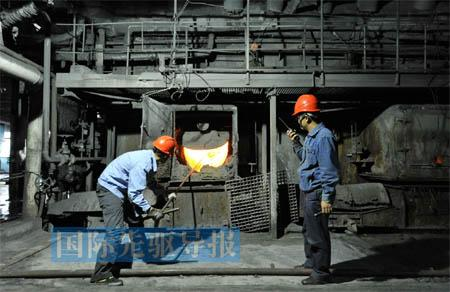boots: (91, 273, 123, 285), (301, 272, 329, 284), (293, 264, 312, 273)
gloves: (145, 206, 162, 219), (285, 128, 299, 142), (319, 199, 331, 214)
hard-hat: (291, 93, 319, 116), (151, 135, 175, 156)
person: (90, 134, 176, 285), (286, 94, 341, 285)
ppe-suit: (89, 134, 179, 285), (286, 92, 342, 284), (91, 148, 159, 277), (290, 123, 340, 274)
